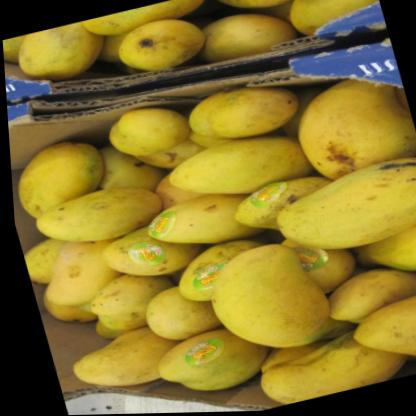--: (181, 235, 331, 369), (255, 155, 416, 270), (14, 170, 168, 260), (172, 76, 302, 155)
